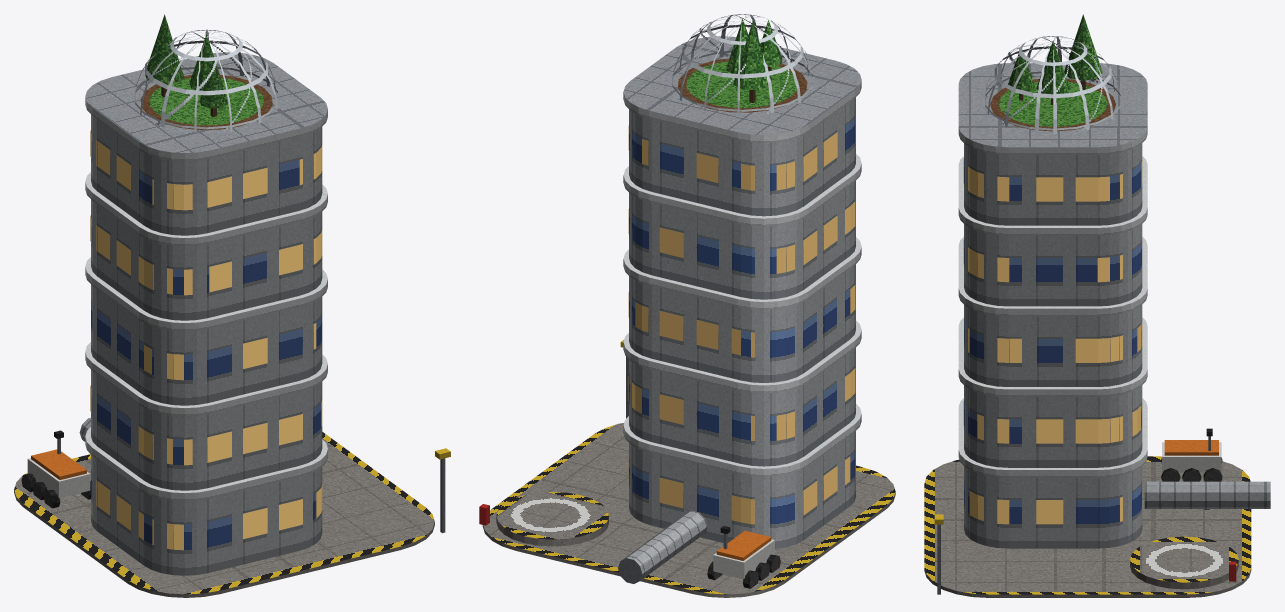
File: mars_6_luxurehab_hotel_a.glb
The picture shows the model from 3 angles, left to right: view 1: azimuth 30°, elevation 25°; view 2: azimuth 150°, elevation 25°; view 3: azimuth 270°, elevation 25°; orthographic projection. The views are drawn at different scales.
Parts seen in each view (by area): view 1: luxurehab_hotel_a, noc; view 2: luxurehab_hotel_a, noc; view 3: luxurehab_hotel_a, noc.
Part boxes in pixels (left/top/right/bottom): luxurehab_hotel_a: left=14, top=14, right=450, bottom=597; noc: left=90, top=130, right=322, bottom=550; luxurehab_hotel_a: left=479, top=14, right=895, bottom=597; noc: left=628, top=126, right=855, bottom=524; luxurehab_hotel_a: left=924, top=14, right=1270, bottom=597; noc: left=963, top=159, right=1142, bottom=524.
Bounding box in the file's own units: 13.2 × 21.65 × 13.98.
1 material, 1 textured.
